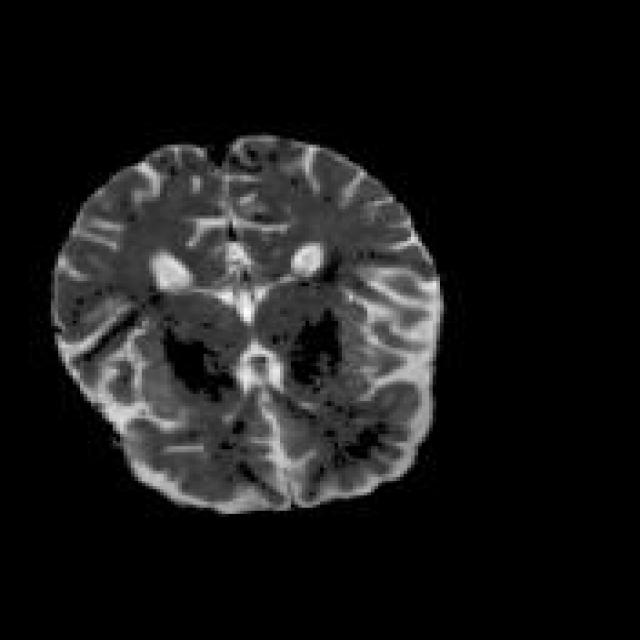parkinson: (47, 129, 444, 514)
